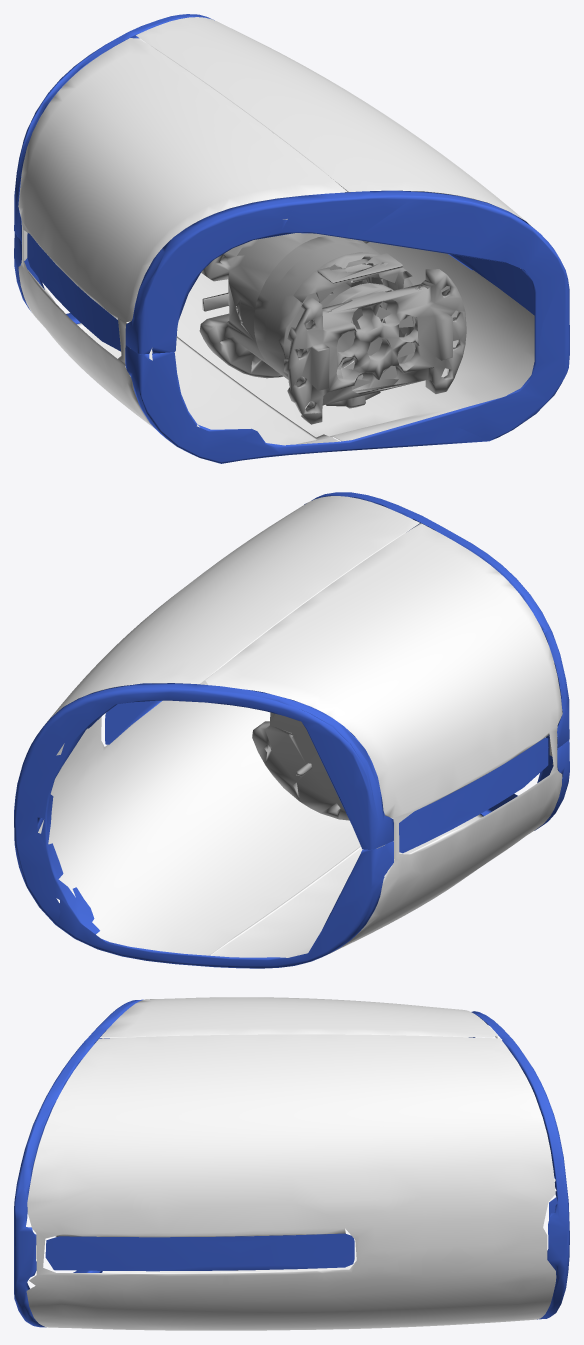
File: sim_ecub_1-1_l_hip_3.obj
3 renders of one model, top to bottom at view 1: azimuth 30°, elevation 25°; view 2: azimuth 150°, elevation 25°; view 3: azimuth 270°, elevation 25°, orthographic. The views are drawn at different scales.
Bounding box in the file's own units: 187 × 138 × 266.
